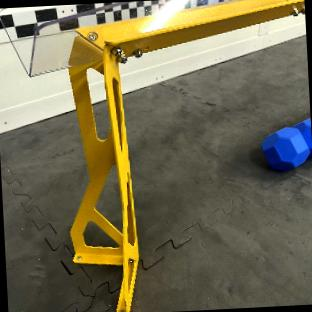V5_BLUE: (260, 117, 312, 171)
